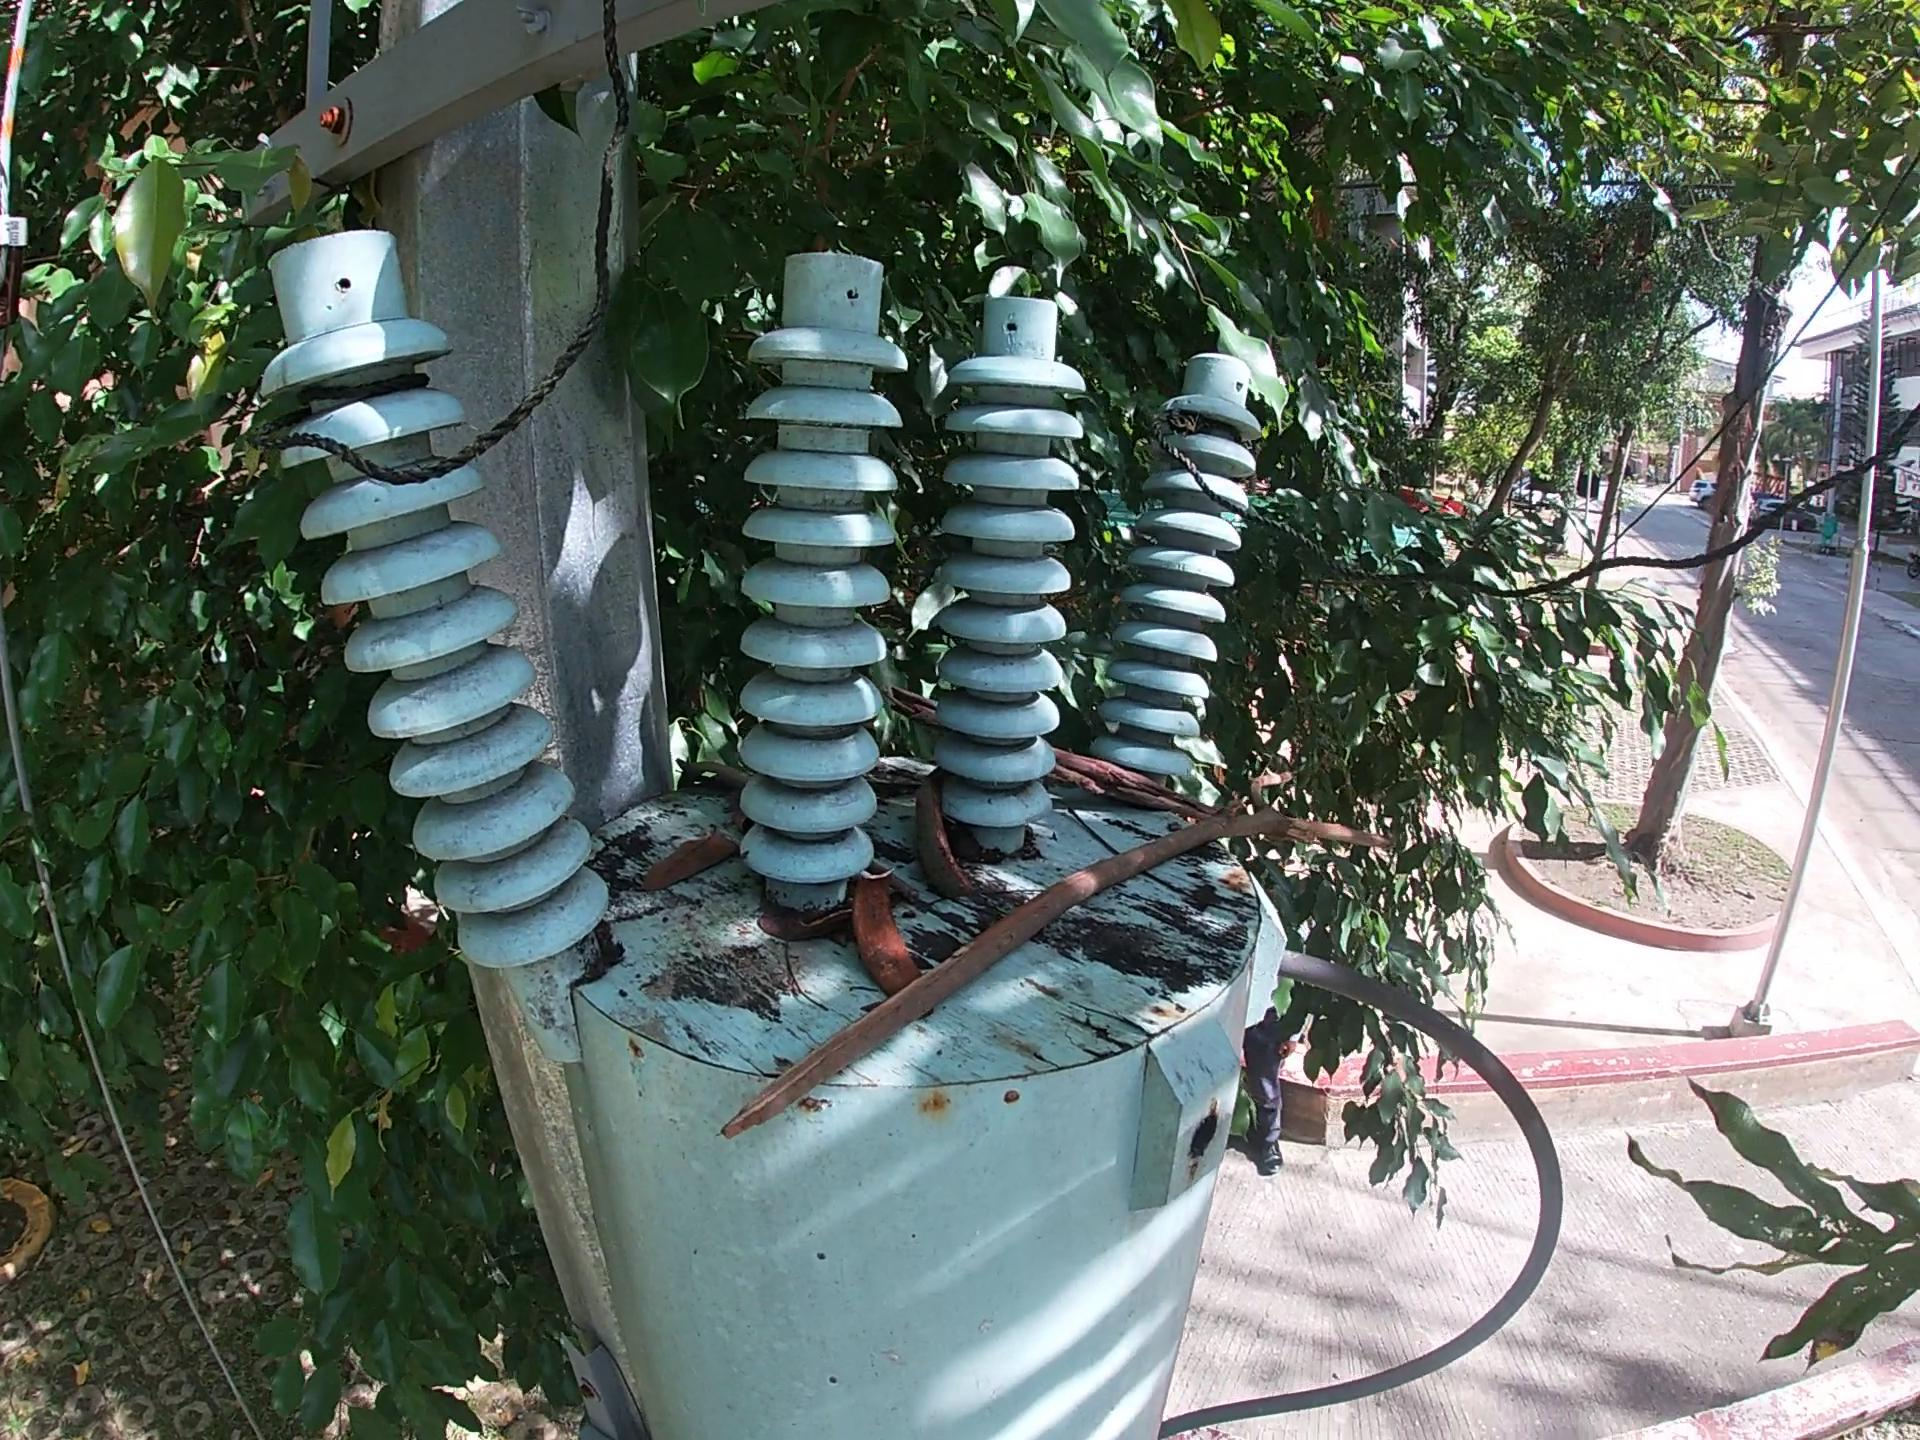leaf: (643, 823, 739, 898), (745, 892, 835, 959)
mahogany fruit: (848, 862, 927, 998), (909, 767, 980, 903)
tree branch: (714, 762, 1403, 1153), (887, 682, 1234, 826), (667, 753, 753, 796), (866, 858, 931, 905)
